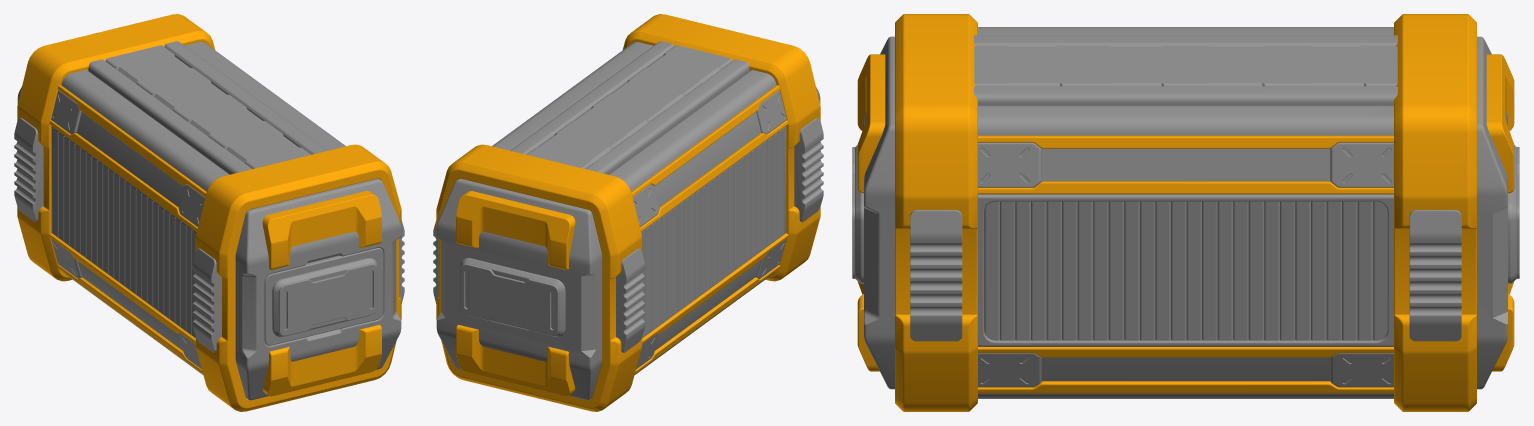
3 renders of one model, left to right at view 1: azimuth 30°, elevation 25°; view 2: azimuth 150°, elevation 25°; view 3: azimuth 270°, elevation 25°, orthographic. The views are drawn at different scales.
Visible parts, largest first — view 1: 13; view 2: 13; view 3: 13.
Boxes of the visible parts, x1,y1,x2,y2 form: 13: (14, 14, 404, 411); 13: (433, 14, 823, 411); 13: (852, 14, 1519, 411).
Bounding box in the file's own units: 41.14 × 87.85 × 44.34.
